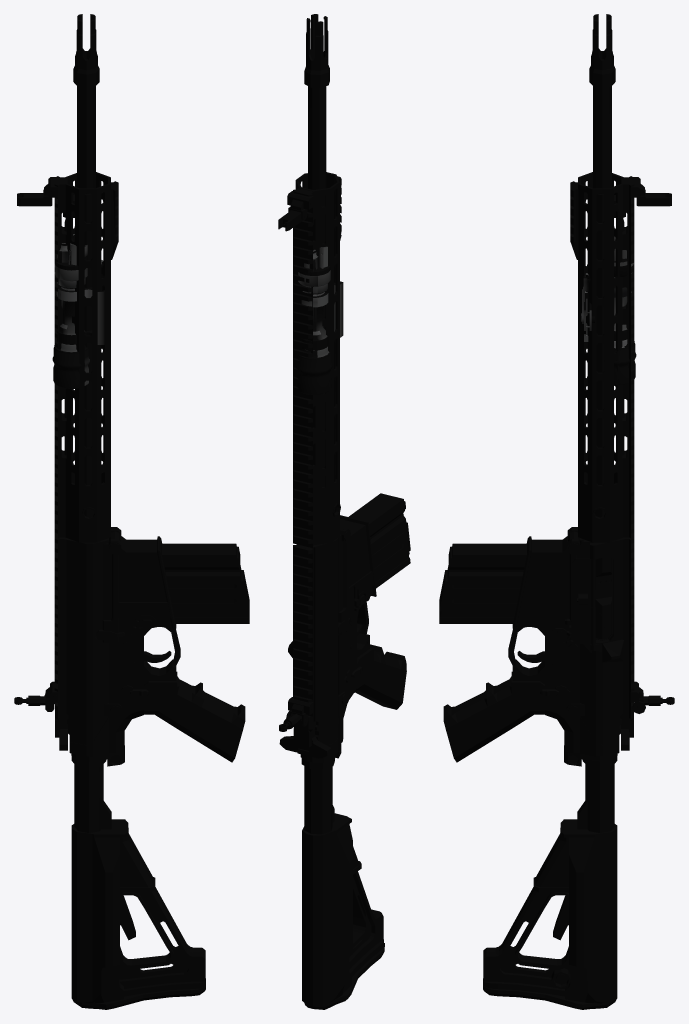
The model's file is Mk12SPR__Light_Weapon.fbx.
3 renders of one model, left to right at view 1: azimuth 90°, elevation 25°; view 2: azimuth 150°, elevation 25°; view 3: azimuth 270°, elevation 25°, orthographic.
Parts seen in each view (by area): view 1: asset_Mk12SPR.001; view 2: asset_Mk12SPR.001; view 3: asset_Mk12SPR.001.
Boxes of the visible parts, x1=… form: asset_Mk12SPR.001: x1=14, y1=14, x2=249, y2=1009; asset_Mk12SPR.001: x1=278, y1=14, x2=410, y2=1009; asset_Mk12SPR.001: x1=439, y1=14, x2=674, y2=1009.
Bounding box in the file's own units: 0.0267 × 0.516 × 0.1118.
